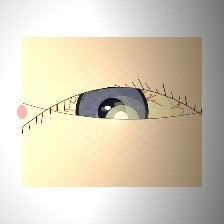corneal_ulcer: (94, 99, 151, 144)
